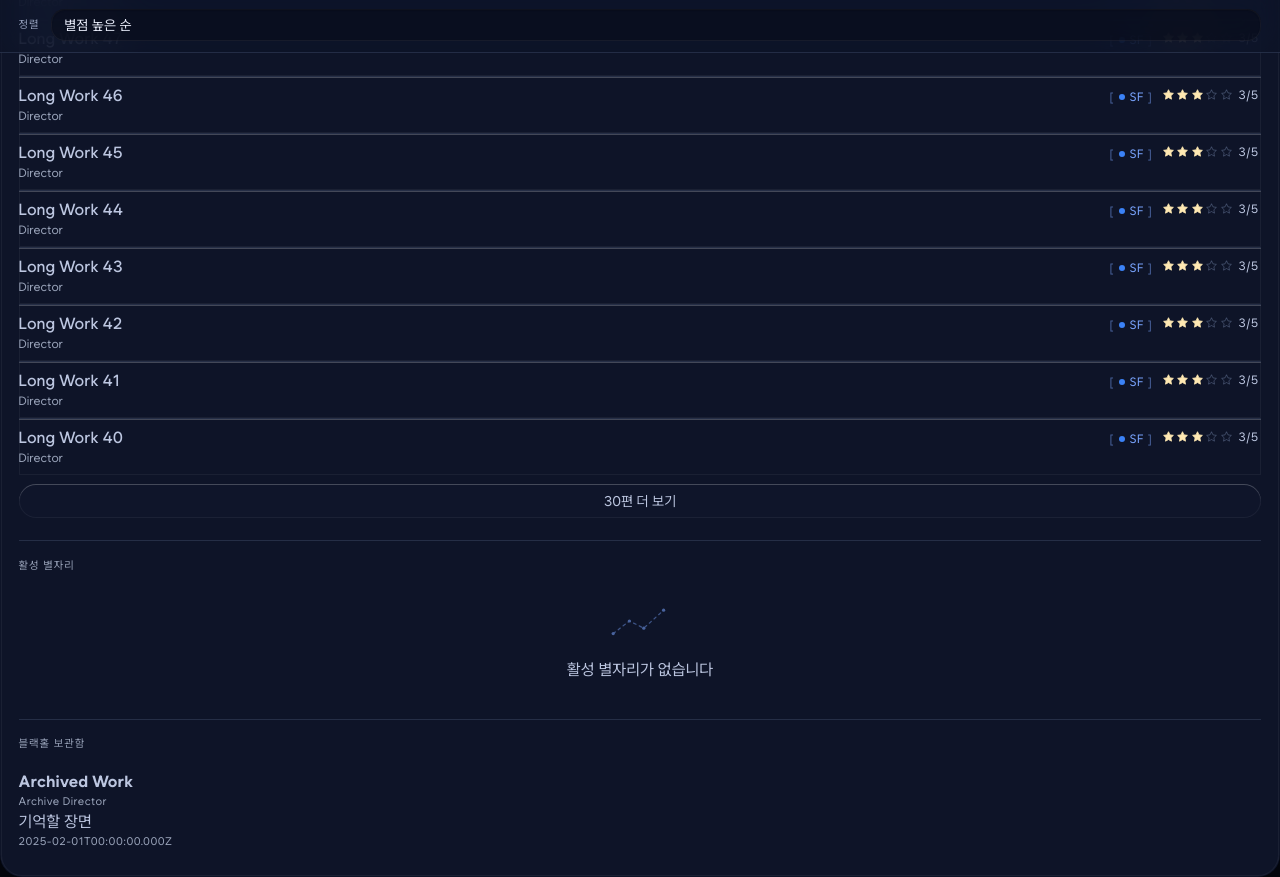
Test: HUD, AchievementPanel, GenreFilter and ListView › pages a long archive instead of rendering every row at once
(page scrolled)
Click the button "30편 더 보기" at (640, 501), box [19,484,1261,518]
(page scrolled)
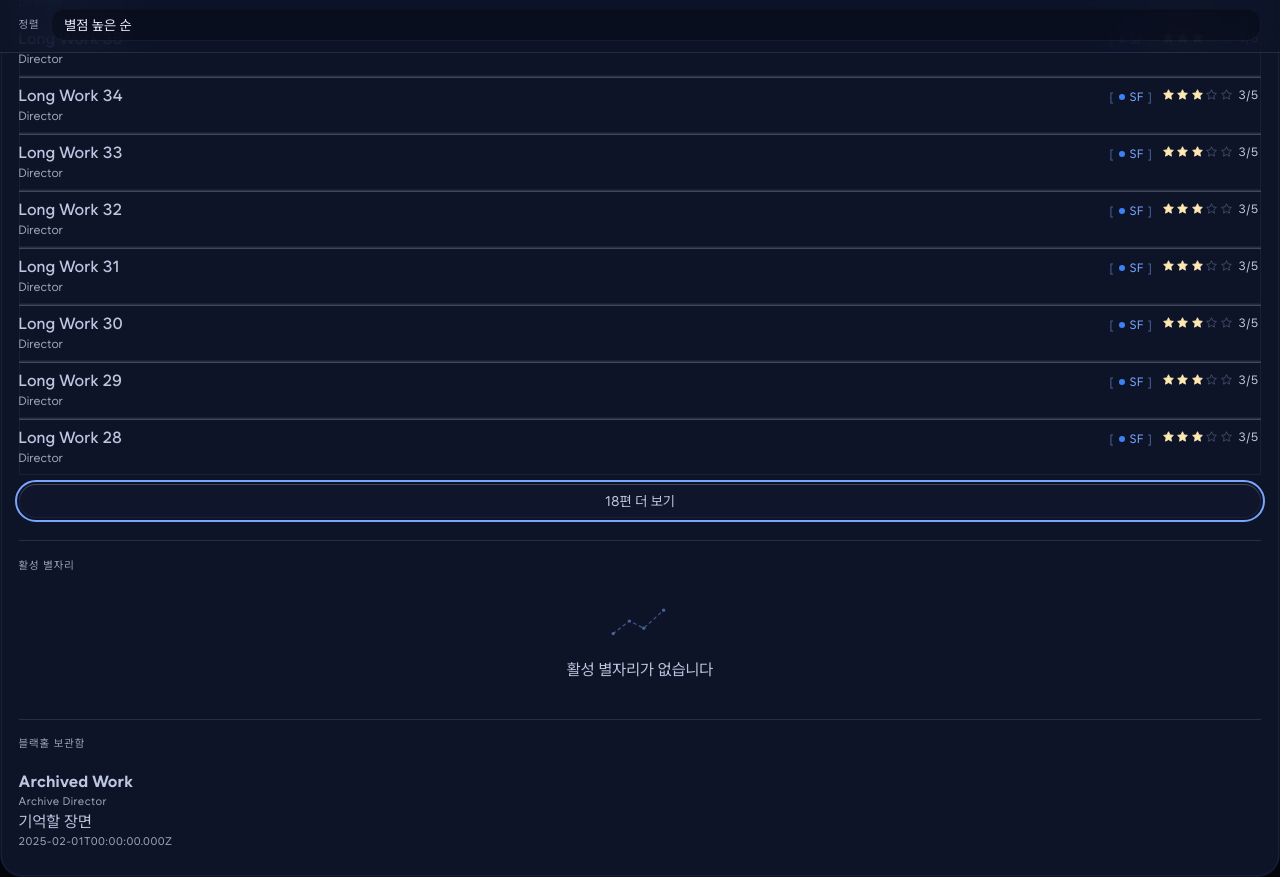
Check: the button "18편 더 보기" is shown, box [19,484,1261,518]
